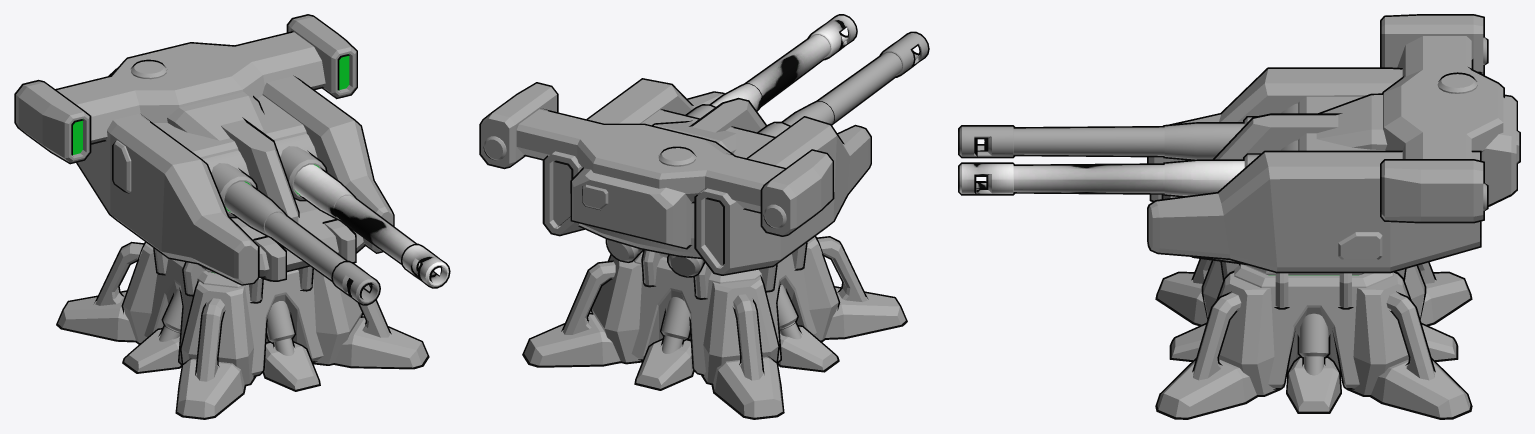
Rendered from SingleWeapon1.obj.
The picture shows the model from 3 angles, left to right: view 1: azimuth 30°, elevation 25°; view 2: azimuth 150°, elevation 25°; view 3: azimuth 270°, elevation 25°; orthographic projection. The views are drawn at different scales.
Parts seen in each view (by area): view 1: body, largebase, barrel1, barrel2, body3, largebase1, trunnion, barrel3, barrel4; view 2: body, largebase, body3, largebase1, barrel2, barrel1, barrel4, barrel3, trunnion; view 3: body, largebase, barrel2, barrel1, body3, largebase1, barrel4, barrel3.
Boxes of the visible parts, left/top/right/bottom form: body: left=16, top=15, right=393, bottom=284; largebase: left=58, top=243, right=427, bottom=417; barrel1: left=293, top=164, right=448, bottom=287; barrel2: left=224, top=181, right=379, bottom=304; body3: left=14, top=14, right=394, bottom=285; largebase1: left=56, top=241, right=429, bottom=419; trunnion: left=202, top=134, right=325, bottom=216; barrel3: left=299, top=167, right=450, bottom=288; barrel4: left=229, top=184, right=380, bottom=305; body: left=481, top=79, right=870, bottom=276; largebase: left=524, top=237, right=905, bottom=417; body3: left=479, top=78, right=871, bottom=277; largebase1: left=522, top=236, right=907, bottom=419; barrel2: left=783, top=33, right=927, bottom=125; barrel1: left=711, top=15, right=856, bottom=110; barrel4: left=781, top=31, right=929, bottom=125; barrel3: left=710, top=14, right=857, bottom=111; trunnion: left=687, top=105, right=788, bottom=136; body: left=1148, top=15, right=1519, bottom=271; largebase: left=1157, top=259, right=1470, bottom=417; barrel2: left=959, top=123, right=1244, bottom=159; barrel1: left=959, top=161, right=1244, bottom=195; body3: left=1147, top=14, right=1520, bottom=273; largebase1: left=1155, top=259, right=1472, bottom=419; barrel4: left=958, top=122, right=1244, bottom=160; barrel3: left=958, top=159, right=1244, bottom=196.
Size of the model in its own units: 1.29 by 0.9572 by 1.86.
5 materials, 1 textured.
